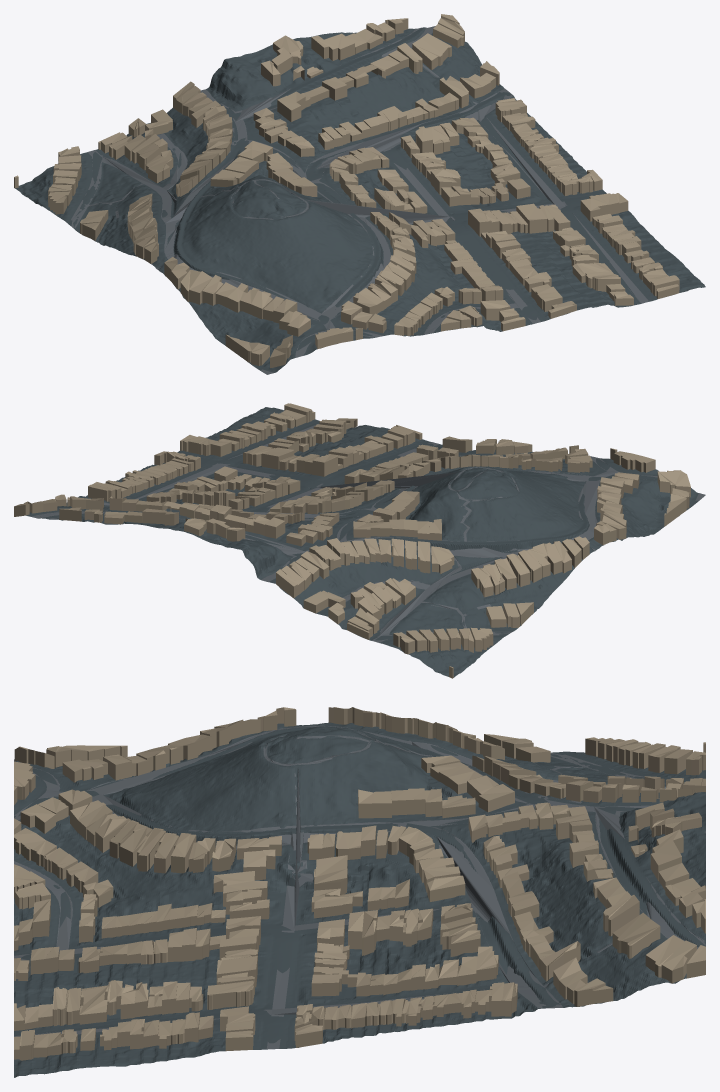
Rendered from epsg26910-1423-10882.lod0.glb.
3 views of the same model, one above another, from view 1: azimuth 30°, elevation 25°; view 2: azimuth 150°, elevation 25°; view 3: azimuth 270°, elevation 25° (orthographic). The views are drawn at different scales.
Parts seen in each view (by area): view 1: epsg26910-1423-10882-lod0; view 2: epsg26910-1423-10882-lod0; view 3: epsg26910-1423-10882-lod0.
Part boxes in pixels (x1,y1,x2,y2): epsg26910-1423-10882-lod0: (14, 14, 705, 374); epsg26910-1423-10882-lod0: (14, 403, 705, 678); epsg26910-1423-10882-lod0: (14, 707, 705, 1077).
Bounding box in the file's own units: 384 × 91.66 × 384.
